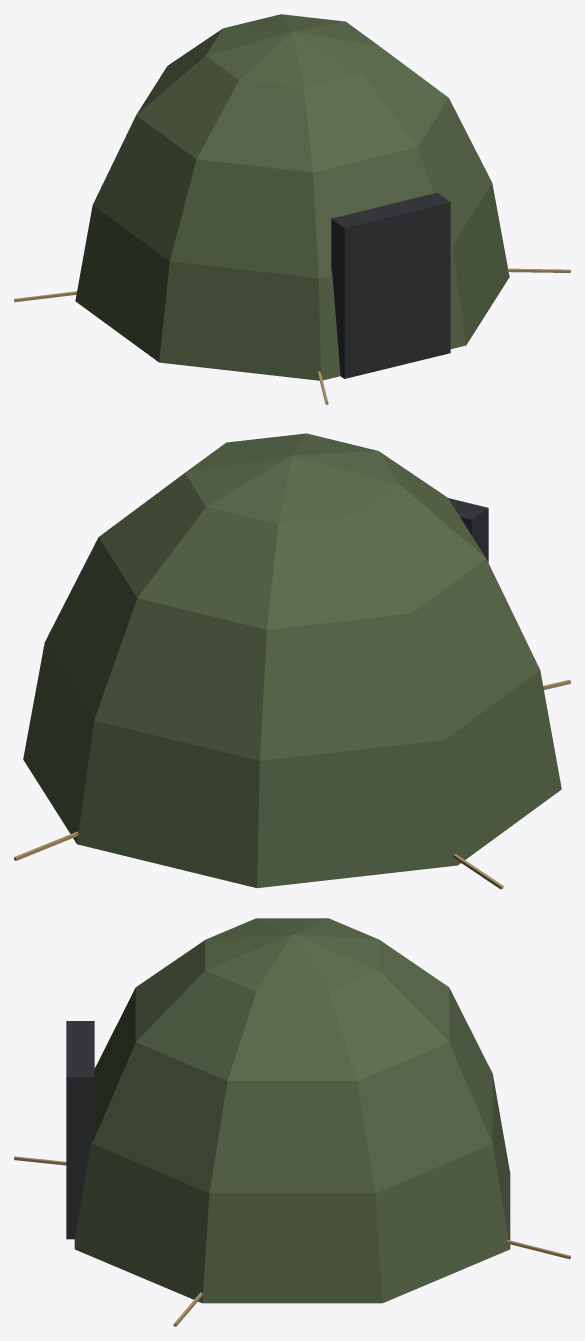
Rendered from SM_Borgo_Tent_Dome.glb.
The picture shows the model from 3 angles, top to bottom: view 1: azimuth 30°, elevation 25°; view 2: azimuth 150°, elevation 25°; view 3: azimuth 270°, elevation 25°; orthographic projection. The views are drawn at different scales.
Parts seen in each view (by area): view 1: SM_Borgo_Tent_Dome; view 2: SM_Borgo_Tent_Dome; view 3: SM_Borgo_Tent_Dome.
Boxes of the visible parts, x1,y1,x2,y2 form: SM_Borgo_Tent_Dome: (14, 14, 570, 404); SM_Borgo_Tent_Dome: (14, 433, 570, 889); SM_Borgo_Tent_Dome: (14, 918, 570, 1326).
Size of the model in its own units: 2.95 by 1.62 by 2.95.
Materials: 1 (1 with a texture image).
